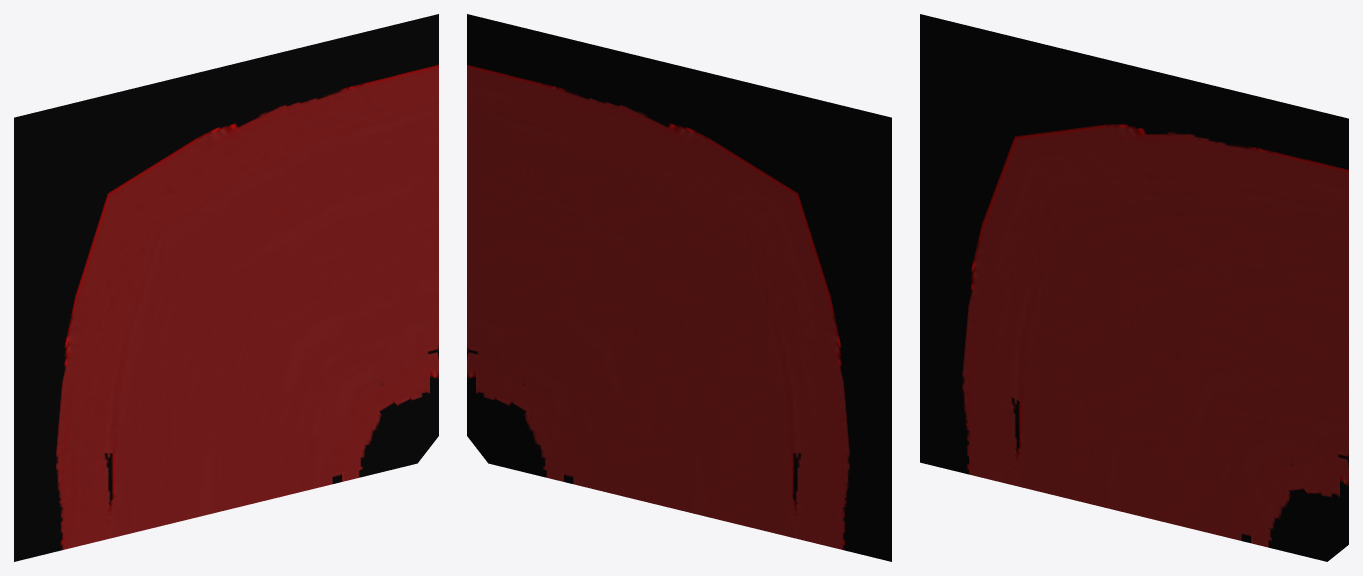
File: blood-corner.obj
The picture shows the model from 3 angles, left to right: view 1: azimuth 30°, elevation 25°; view 2: azimuth 150°, elevation 25°; view 3: azimuth 330°, elevation 25°; orthographic projection.
Parts seen in each view (by area): view 1: Plane; view 2: Plane; view 3: Plane.
Part boxes in pixels (x1,y1,x2,y2): Plane: (14, 14, 438, 561); Plane: (467, 14, 891, 561); Plane: (920, 14, 1348, 561).
Size of the model in its own units: 2 by 2 by 0.
Materials: 1 (1 with a texture image).
